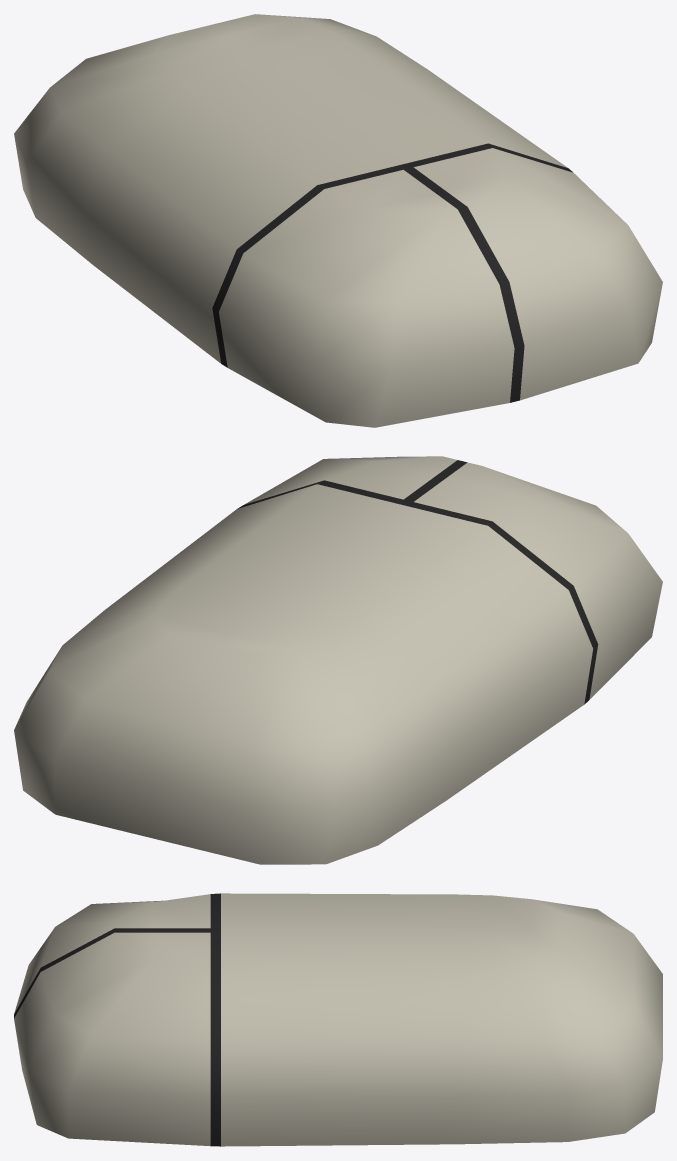
The model's file is ComputerMouse_01.fbx.
3 views of the same model, one above another, from view 1: azimuth 30°, elevation 25°; view 2: azimuth 150°, elevation 25°; view 3: azimuth 270°, elevation 25° (orthographic). The views are drawn at different scales.
Parts seen in each view (by area): view 1: ComputerMouse_01; view 2: ComputerMouse_01; view 3: ComputerMouse_01.
Part boxes in pixels (<box>): ComputerMouse_01: <box>14,14,662,427</box>; ComputerMouse_01: <box>14,456,662,864</box>; ComputerMouse_01: <box>14,893,662,1146</box>.
Size of the model in its own units: 0.0721 by 0.0281 by 0.1201.
